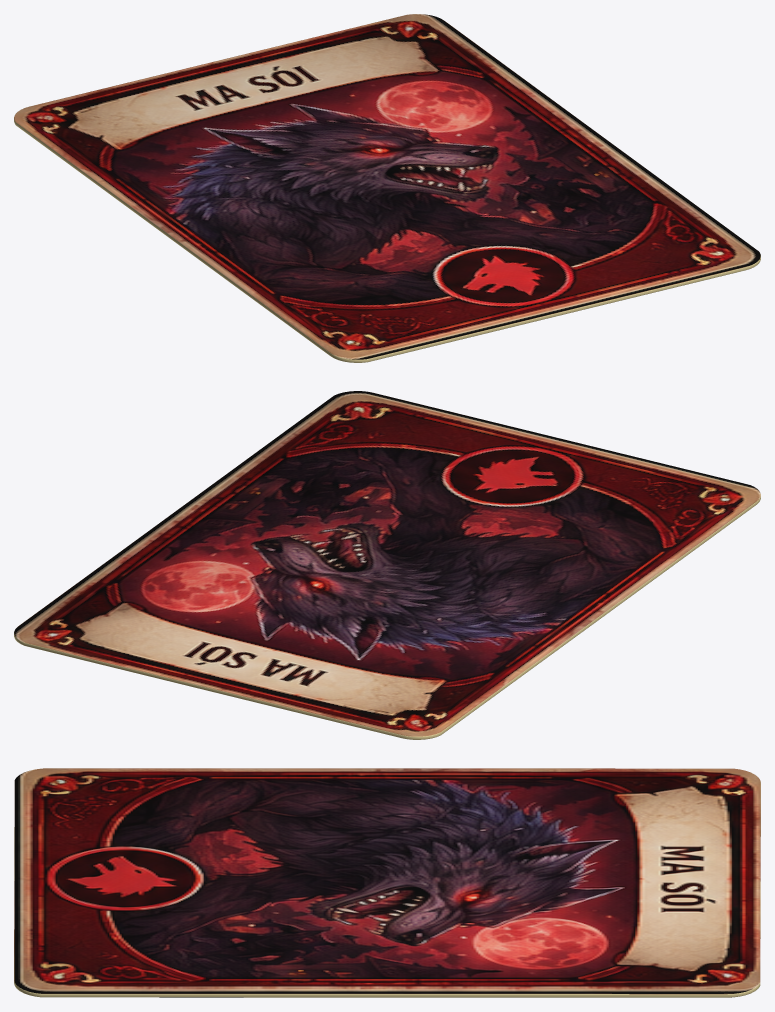
The model's file is RoleCard.glb.
The picture shows the model from 3 angles, top to bottom: view 1: azimuth 30°, elevation 25°; view 2: azimuth 150°, elevation 25°; view 3: azimuth 270°, elevation 25°; orthographic projection. The views are drawn at different scales.
Visible parts, largest first — view 1: RoleCard; view 2: RoleCard; view 3: RoleCard.
Boxes of the visible parts, x1,y1,x2,y2 form: RoleCard: (14,14,760,362); RoleCard: (14,391,760,739); RoleCard: (14,768,760,997).
Size of the model in its own units: 0.63 by 0.005 by 0.88.
3 materials, 2 textured.
